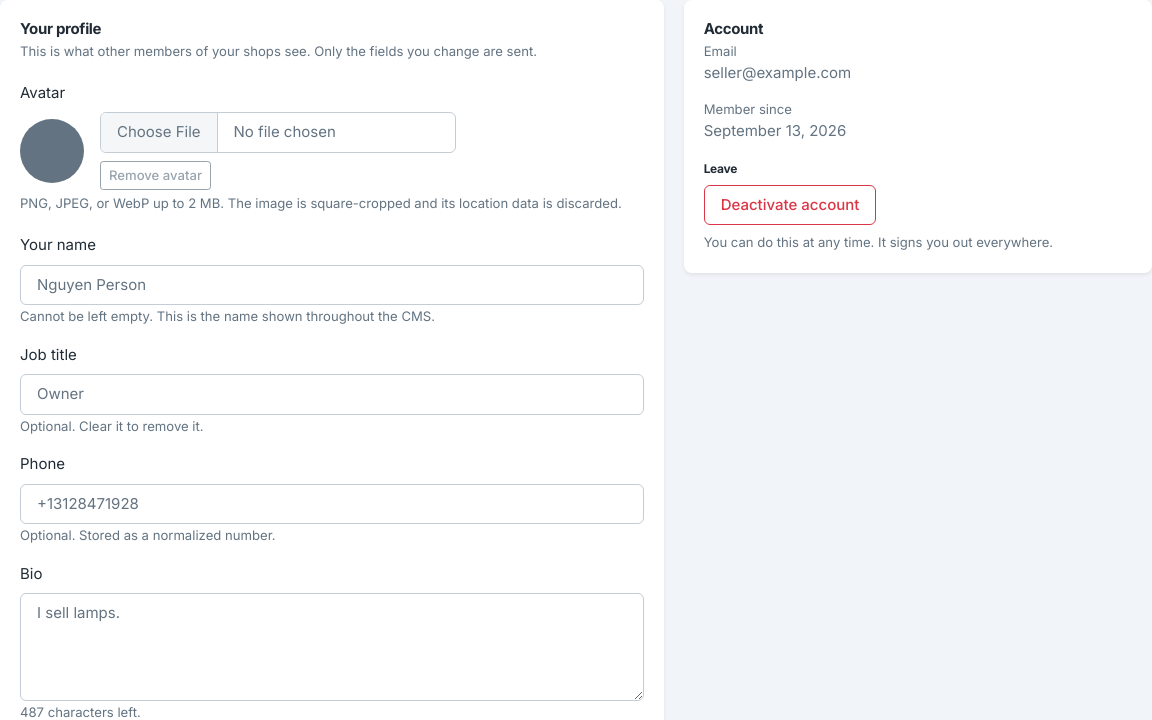
Test: profile form › enables confirmation once acknowledged, and still requires the password
Click the button "Deactivate account" at (790, 205), box 704,185 -> 876,225
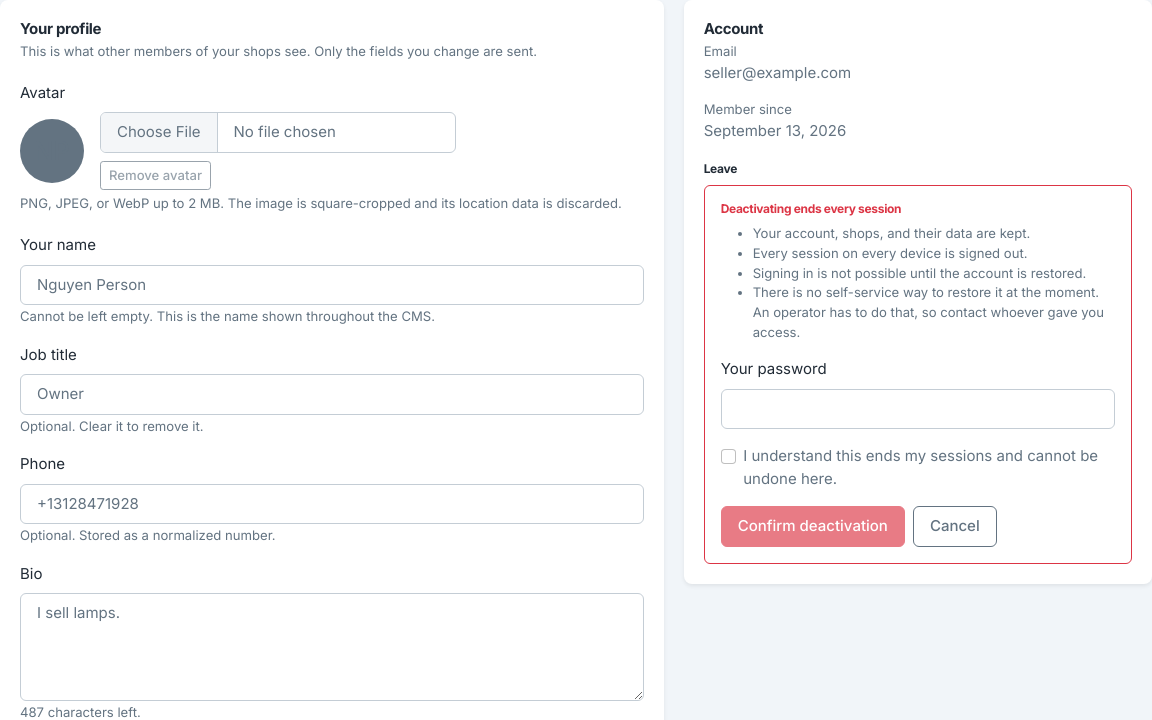
Click the checkbox labelled "I understand" at (728, 456), box 721,449 -> 736,464
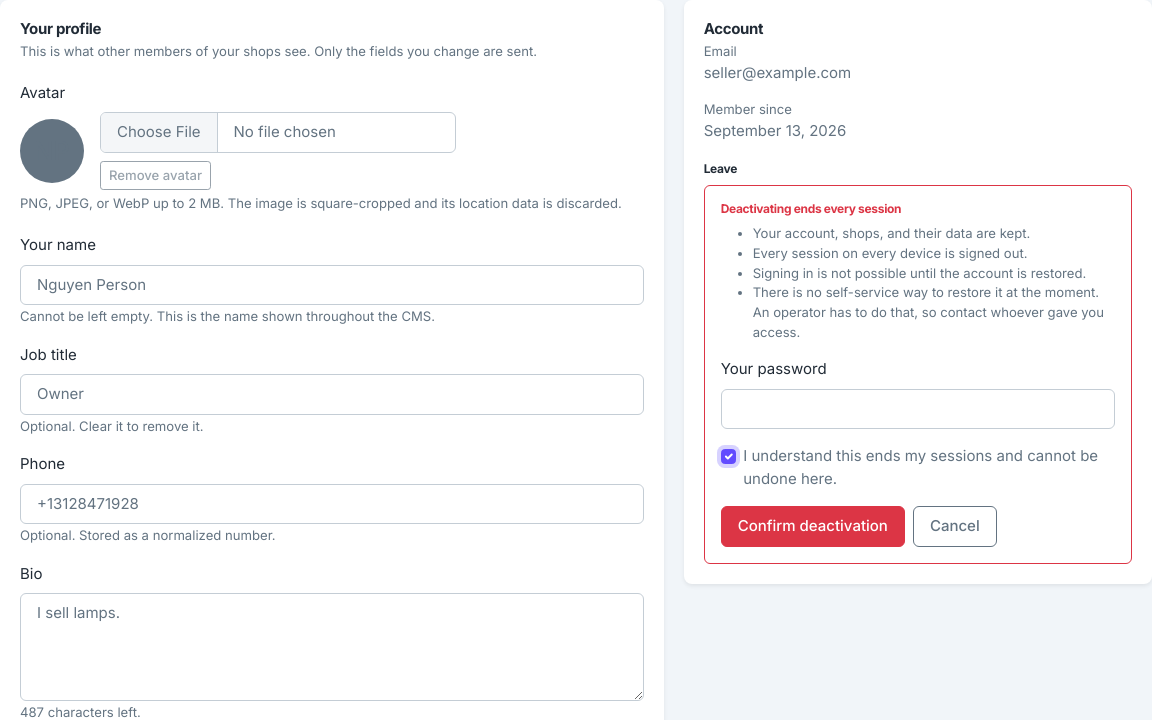
Click the button "Confirm deactivation" at (813, 527), box 721,506 -> 905,547
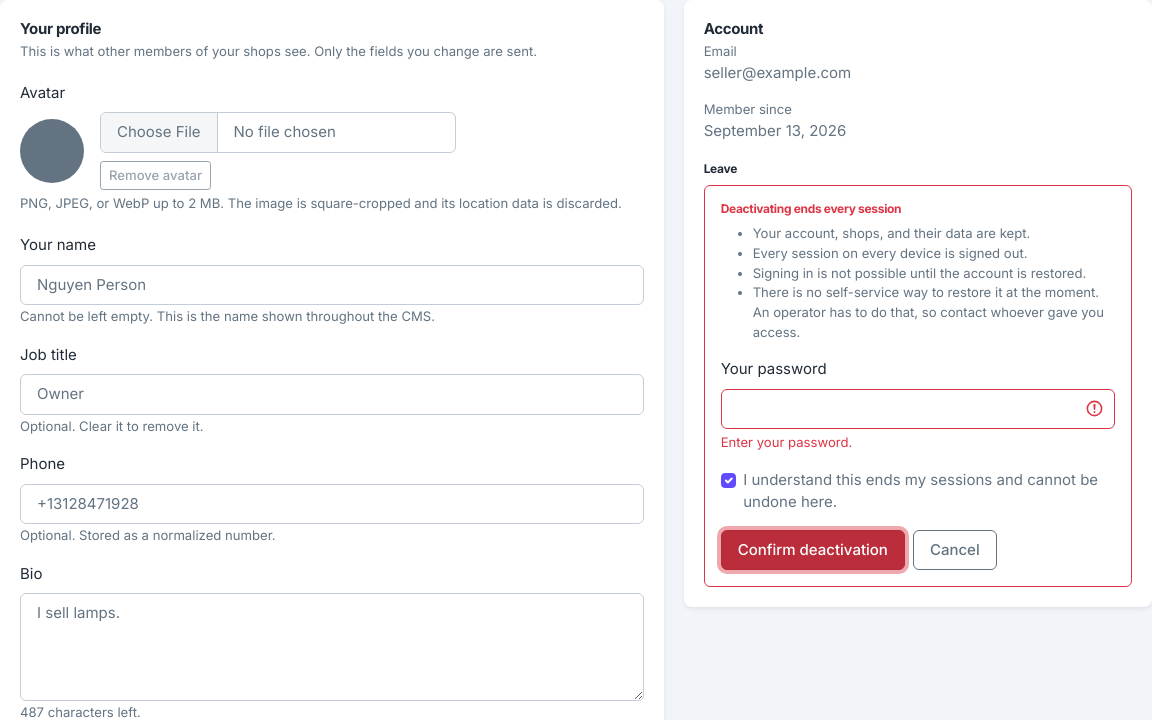
expect the text "Enter your password." is shown: met, box 721,434 -> 852,450
